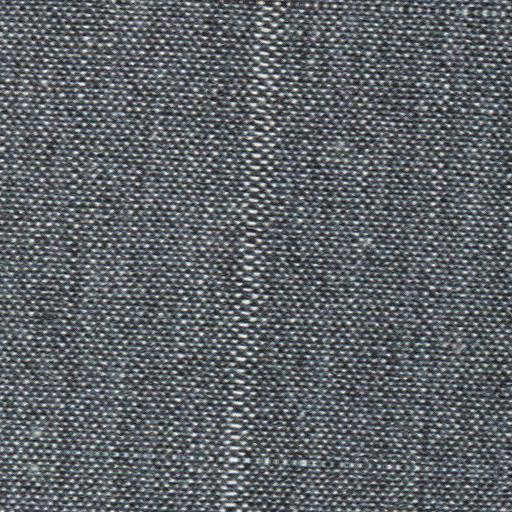slub: (216, 4, 292, 510)
